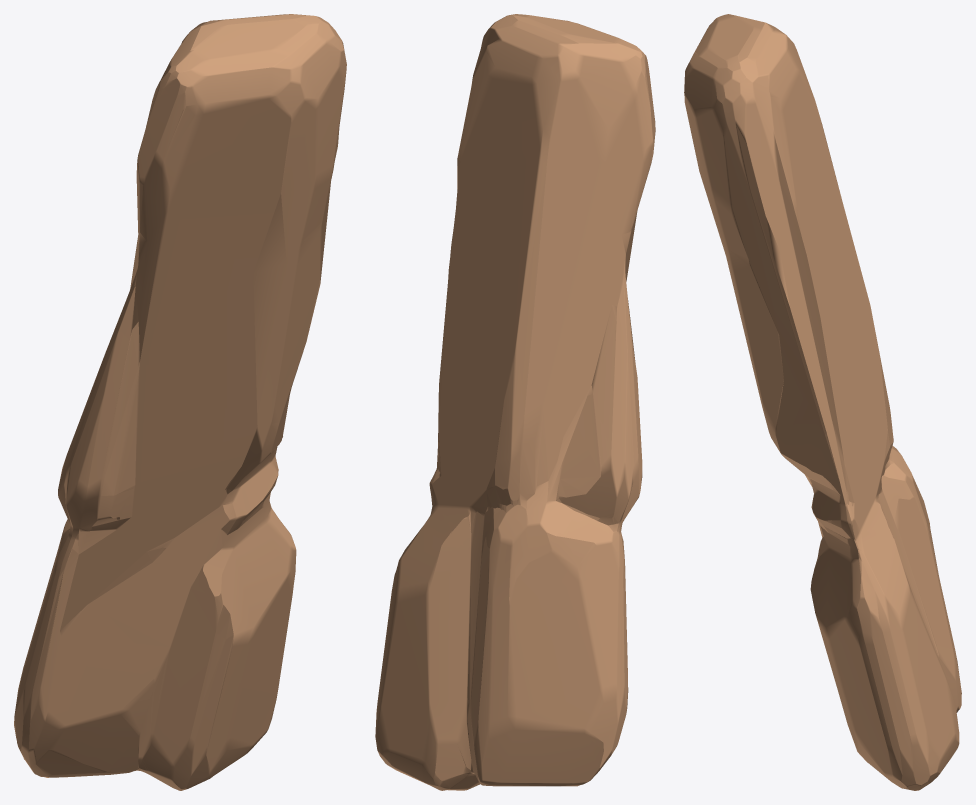
3 views of the same model, side by side, from view 1: azimuth 30°, elevation 25°; view 2: azimuth 150°, elevation 25°; view 3: azimuth 270°, elevation 25° (orthographic). The views are drawn at different scales.
Parts seen in each view (by area): view 1: Mesh_94_LOD0; view 2: Mesh_94_LOD0; view 3: Mesh_94_LOD0.
Part boxes in pixels (left/top/right/bottom): Mesh_94_LOD0: left=14, top=14, right=346, bottom=790; Mesh_94_LOD0: left=375, top=14, right=655, bottom=790; Mesh_94_LOD0: left=684, top=14, right=961, bottom=790.
Size of what is drawn, in the model's own units: 714 by 2097 by 730.
